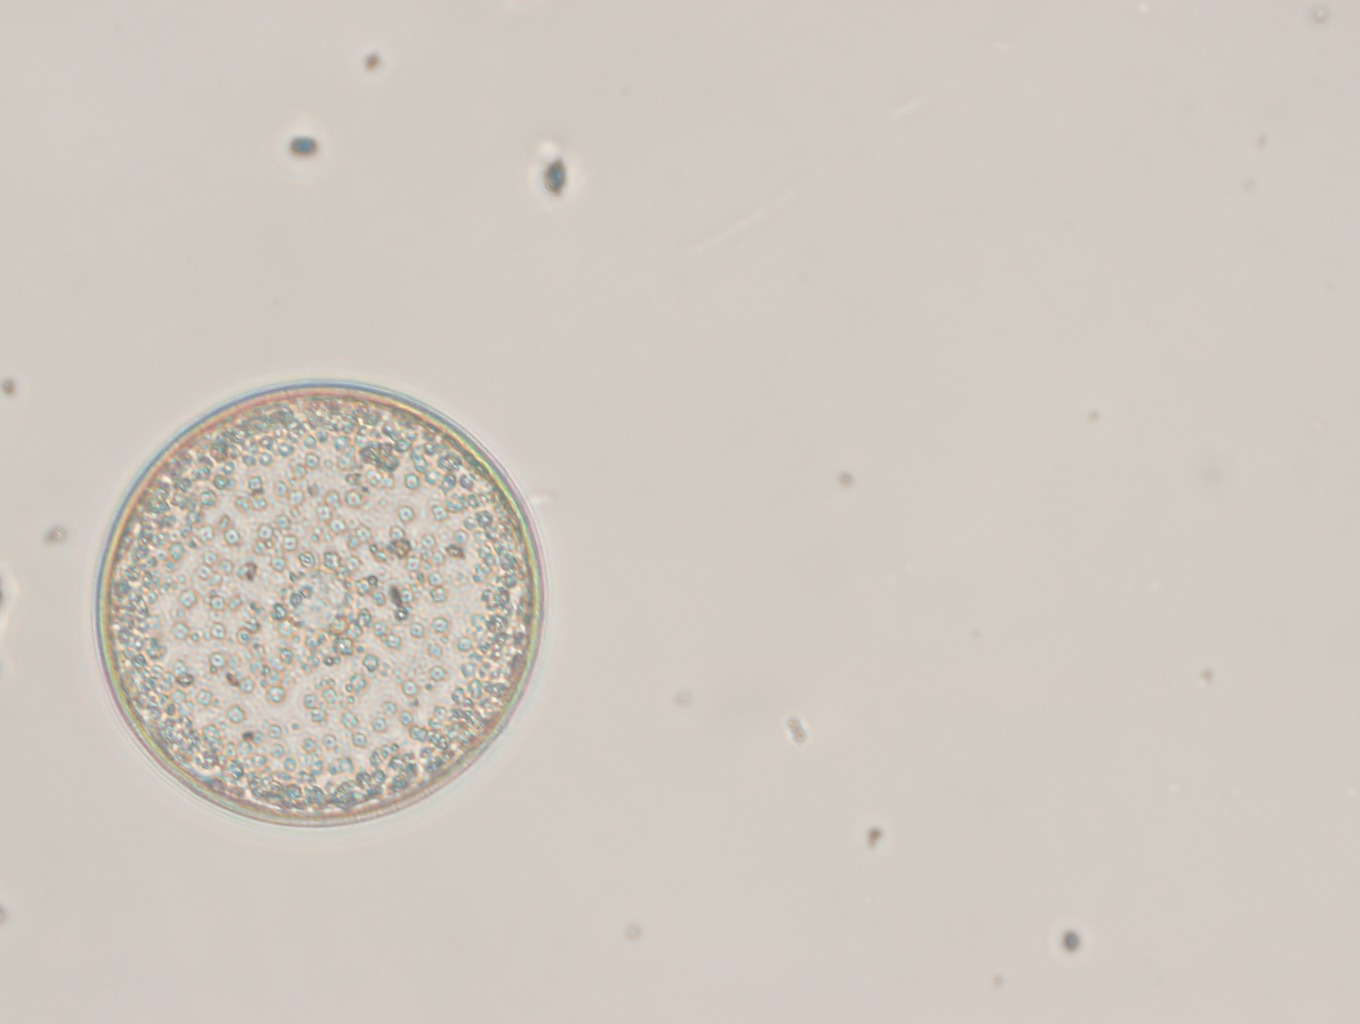coscinodiscus: (90, 376, 548, 831)
